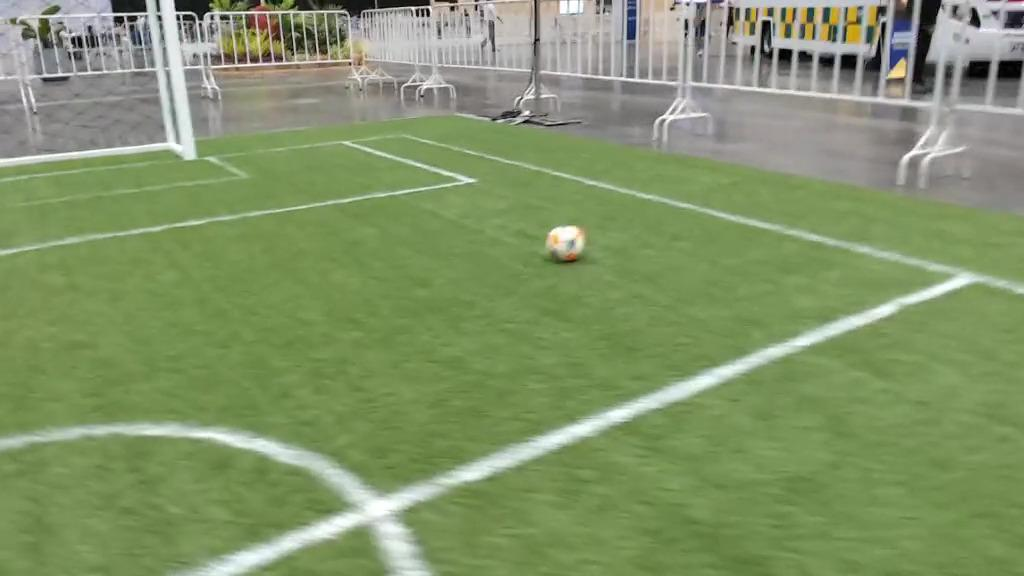ball: (547, 225, 585, 262)
